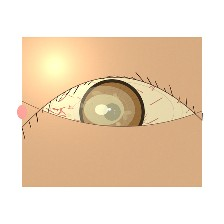corneal_ulcer: (71, 84, 137, 136)
